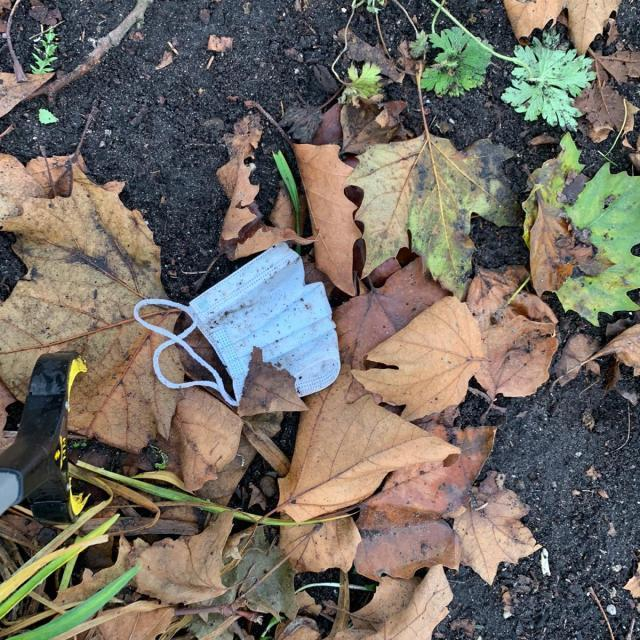Mask: (130, 238, 343, 408)
